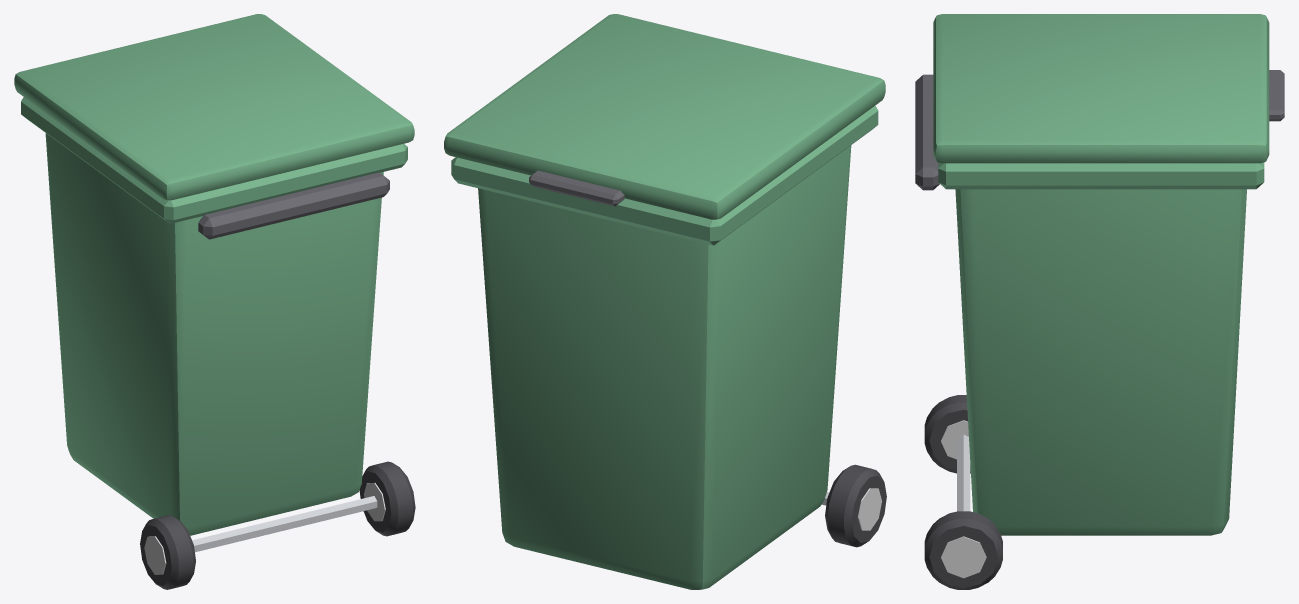
Rendered from trash_bin.glb.
3 renders of one model, left to right at view 1: azimuth 30°, elevation 25°; view 2: azimuth 150°, elevation 25°; view 3: azimuth 270°, elevation 25°, orthographic. The views are drawn at different scales.
Visible parts, largest first — view 1: bin, lid, wheels; view 2: bin, lid, wheels; view 3: bin, lid, wheels.
Part boxes in pixels (x1,y1,x2,y2): bin: (21, 97, 407, 535); lid: (14, 14, 414, 200); wheels: (140, 461, 415, 589); bin: (451, 106, 878, 589); lid: (444, 14, 885, 219); wheels: (821, 464, 886, 547); bin: (915, 74, 1264, 535); lid: (933, 14, 1284, 163); wheels: (924, 395, 1002, 589).
Size of the model in its own units: 0.62 by 0.9769 by 0.725.
